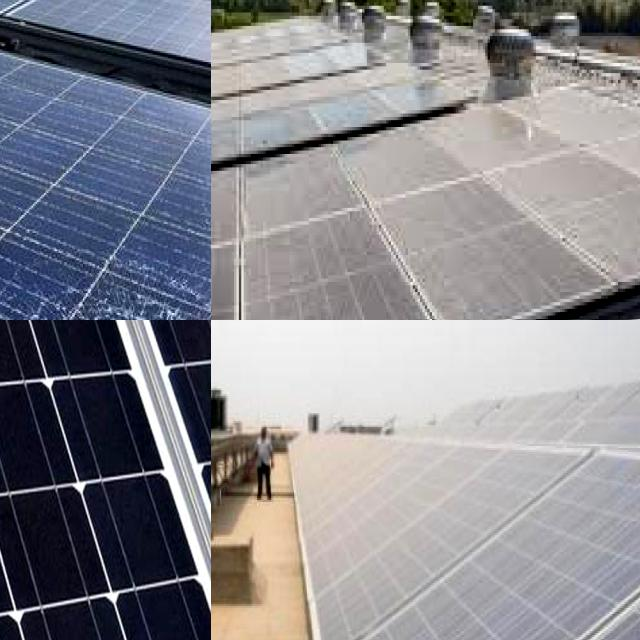crack: (0, 320, 211, 640), (69, 320, 211, 640)
dust: (317, 437, 505, 592), (533, 480, 640, 621), (244, 236, 405, 320), (421, 206, 542, 304), (567, 143, 640, 247)
hotspot: (46, 268, 209, 320)
